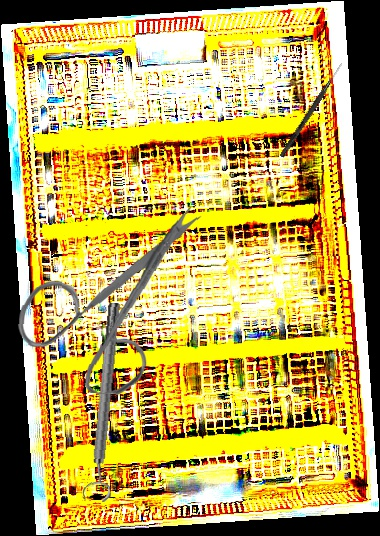Fixation Ring: (79, 301, 132, 503)
Hook Surgical: (279, 61, 344, 159)
Iris Scissors: (15, 197, 203, 399)
